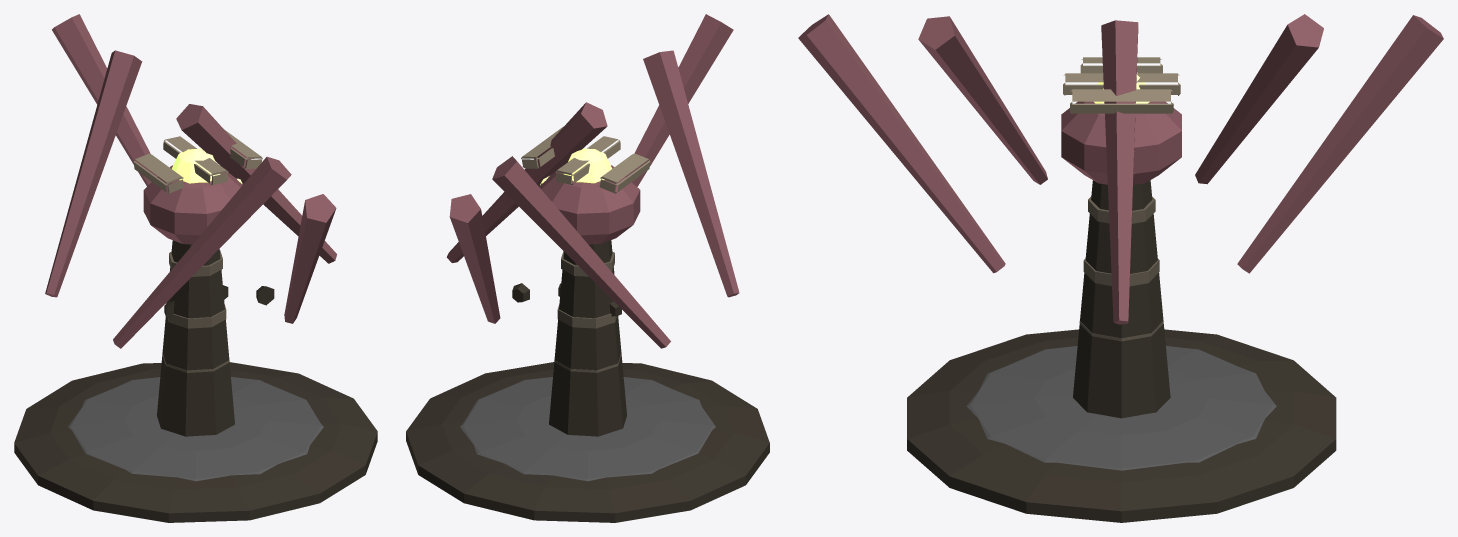
File: bl_antenna.glb
The picture shows the model from 3 angles, left to right: view 1: azimuth 30°, elevation 25°; view 2: azimuth 150°, elevation 25°; view 3: azimuth 270°, elevation 25°; orthographic projection. The views are drawn at different scales.
Visible parts, largest first — view 1: body, spinner; view 2: body, spinner; view 3: body, spinner.
Boxes of the visible parts, box(x1,y1,x2,y2) form: body: box(14, 240, 377, 522); spinner: box(45, 14, 336, 348); body: box(406, 240, 769, 522); spinner: box(446, 14, 739, 348); body: box(907, 180, 1336, 522); spinner: box(798, 14, 1443, 324).
Size of the model in its own units: 27.45 by 29.85 by 40.28.
